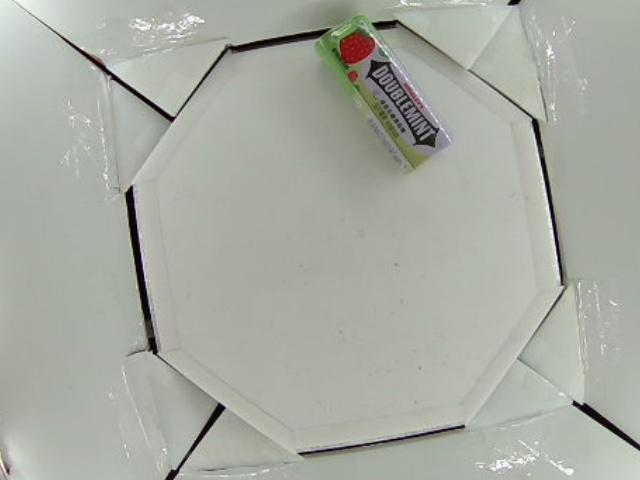Bottle: (320, 14, 454, 173)
